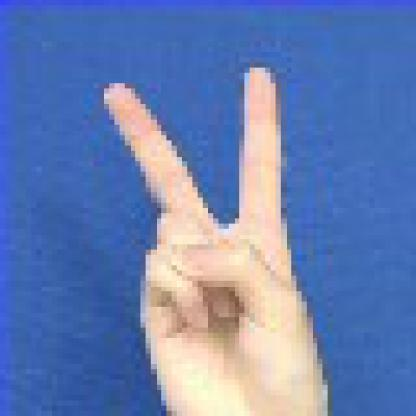two: (97, 58, 343, 415)
